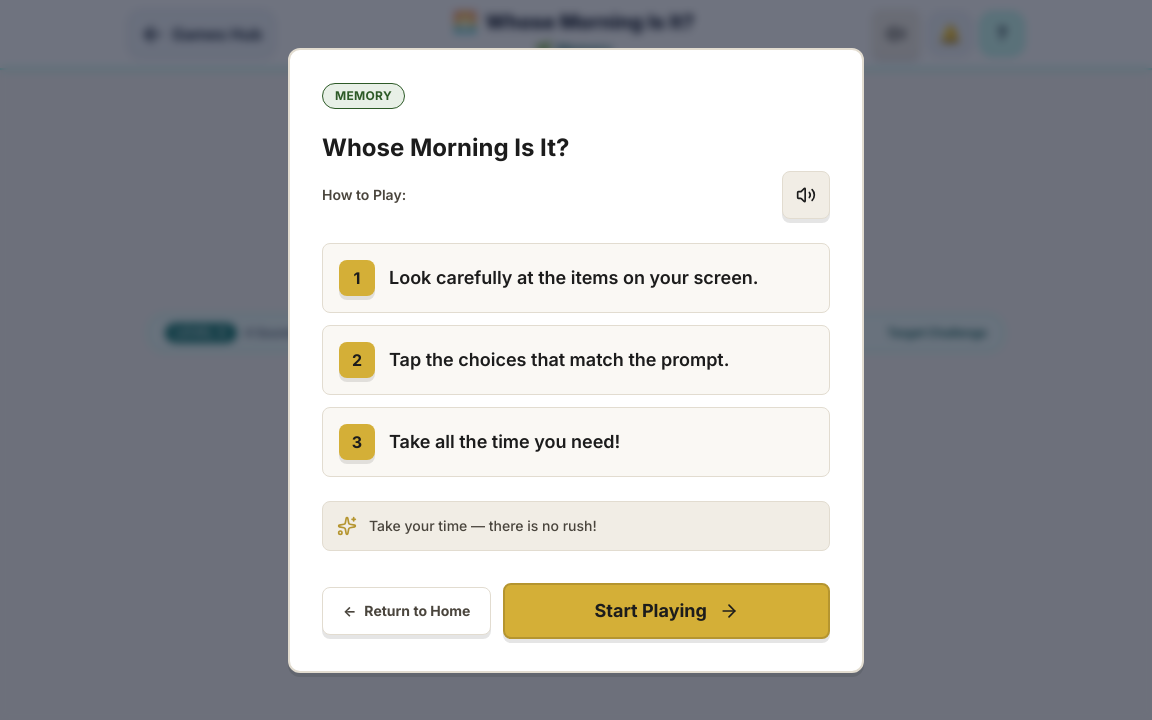
Test: Game Enhancements Suite › 2. WhoseMorningIsIt.jsx — Sound Numbering, Slowdown & Replay › displays numbered sound badges (1, 2, 3, 4) in the sequence strip
// Dismiss instructions modal if present
Click the button "Start Playing" at (667, 610), box [504,582,830,638]
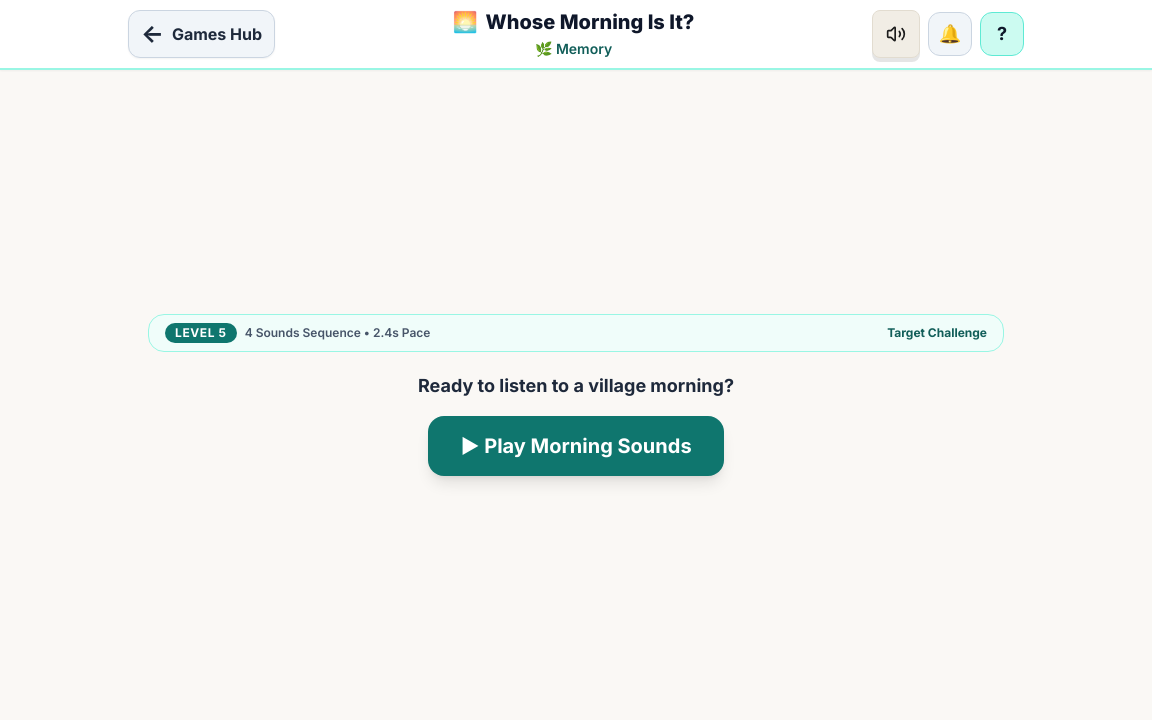
// Start the morning sound sequence
Click the button "▶ Play Morning Sounds" at (576, 446), box [428,416,724,476]
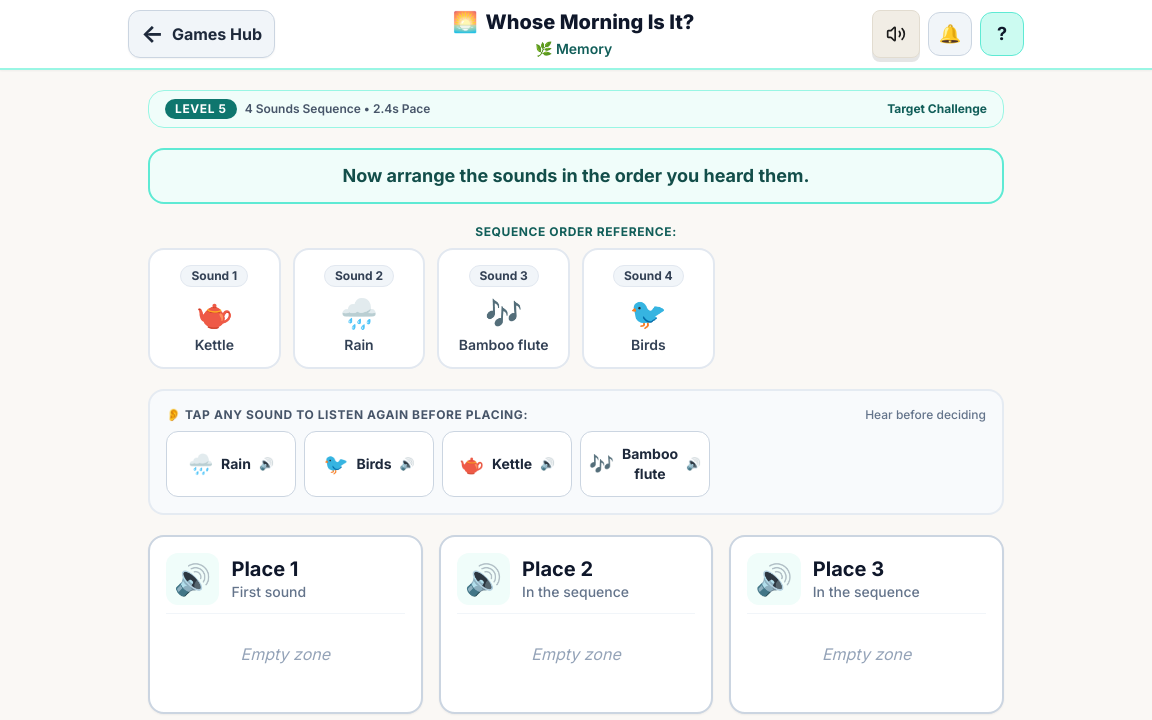
Check: the text "Sound 1" is shown, box [180,265,248,287]
Check: the text "Sound 2" is shown, box [324,265,394,287]
Check: the text "Sound 3" is shown, box [468,265,539,287]
